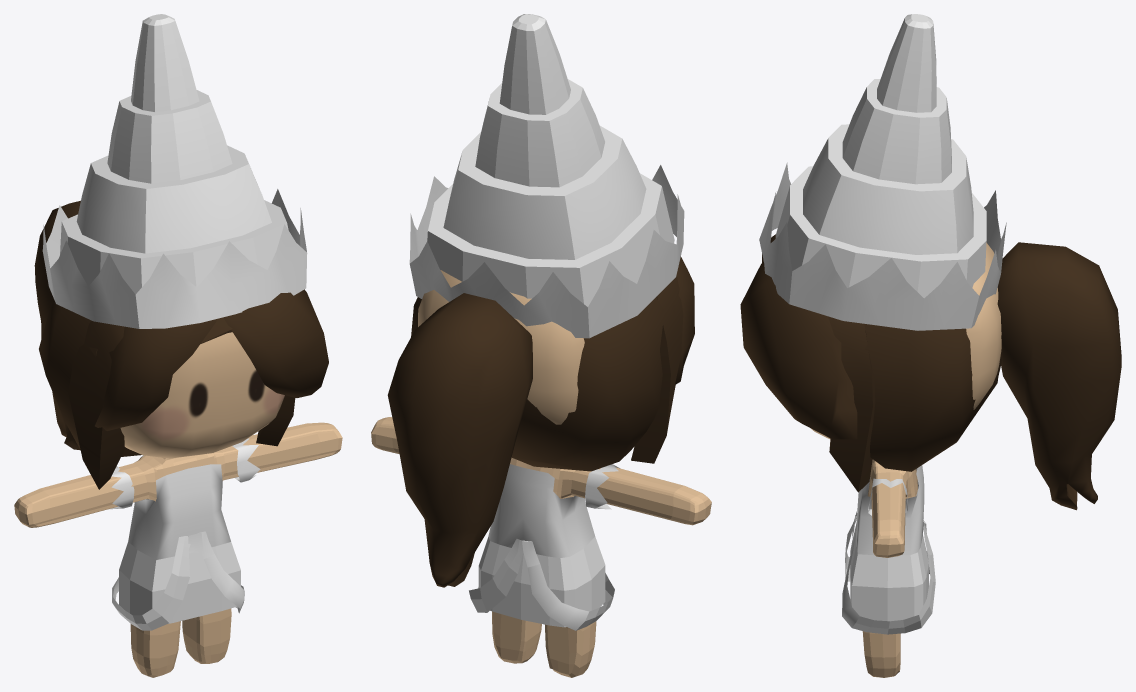
The model's file is rorojonggrang.fbx.
3 renders of one model, left to right at view 1: azimuth 30°, elevation 25°; view 2: azimuth 150°, elevation 25°; view 3: azimuth 270°, elevation 25°, orthographic. The views are drawn at different scales.
Visible parts, largest first — view 1: pCube14, rambut_1, pCube15, badan, dress_Tanpa_lengan_panjang5, kepala, celana_Puntung17, celana_Puntung15, lingkaran_Gelang4, lingkaran_Gelang7; view 2: rambut_1, pCube14, dress_Tanpa_lengan_panjang5, pCube15, badan, kepala, celana_Puntung17, celana_Puntung15, lingkaran_Gelang7; view 3: rambut_1, pCube14, pCube15, dress_Tanpa_lengan_panjang5, badan, kepala, celana_Puntung15.
Part boxes in pixels (box(x1,y1,x2,y2)): pCube14: box(60, 14, 288, 294); rambut_1: box(34, 200, 328, 489); pCube15: box(42, 189, 307, 328); badan: box(14, 422, 342, 677); dress_Tanpa_lengan_panjang5: box(119, 455, 240, 623); kepala: box(120, 332, 284, 458); celana_Puntung17: box(112, 536, 190, 630); celana_Puntung15: box(198, 531, 244, 613); lingkaran_Gelang4: box(232, 438, 260, 482); lingkaran_Gelang7: box(109, 466, 134, 509); rambut_1: box(387, 256, 694, 587); pCube14: box(427, 14, 674, 306); dress_Tanpa_lengan_panjang5: box(478, 464, 605, 627); pCube15: box(409, 165, 684, 338); badan: box(371, 417, 711, 677); kepala: box(418, 270, 584, 424); celana_Puntung17: box(522, 540, 614, 630); celana_Puntung15: box(469, 539, 523, 612); lingkaran_Gelang7: box(585, 464, 619, 509); rambut_1: box(740, 234, 1121, 510); pCube14: box(775, 14, 986, 298); pCube15: box(759, 162, 1006, 330); dress_Tanpa_lengan_panjang5: box(850, 465, 928, 621); badan: box(862, 459, 917, 677); kepala: box(810, 242, 1001, 438); celana_Puntung15: box(842, 520, 935, 634).
Size of the model in its own units: 10.57 by 20.27 by 10.89.
